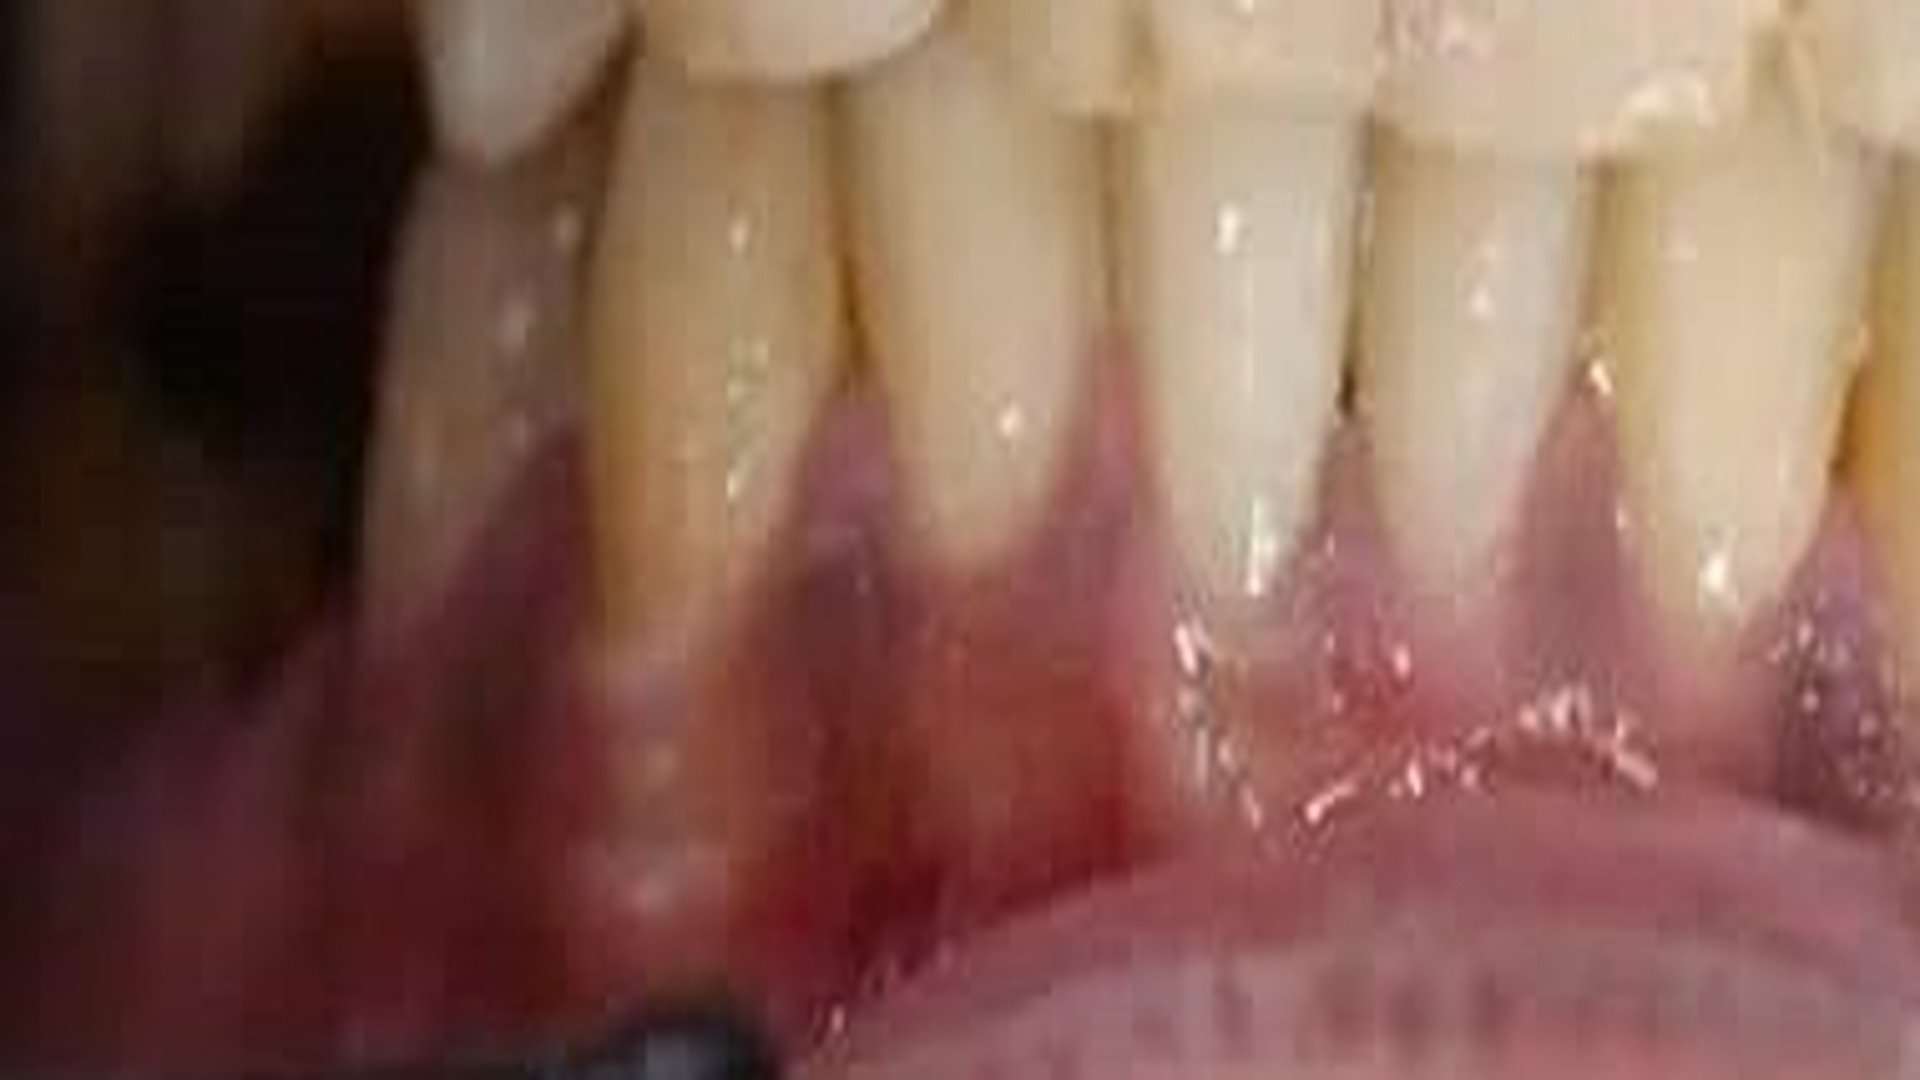tooth: (1106, 70, 1364, 651)
